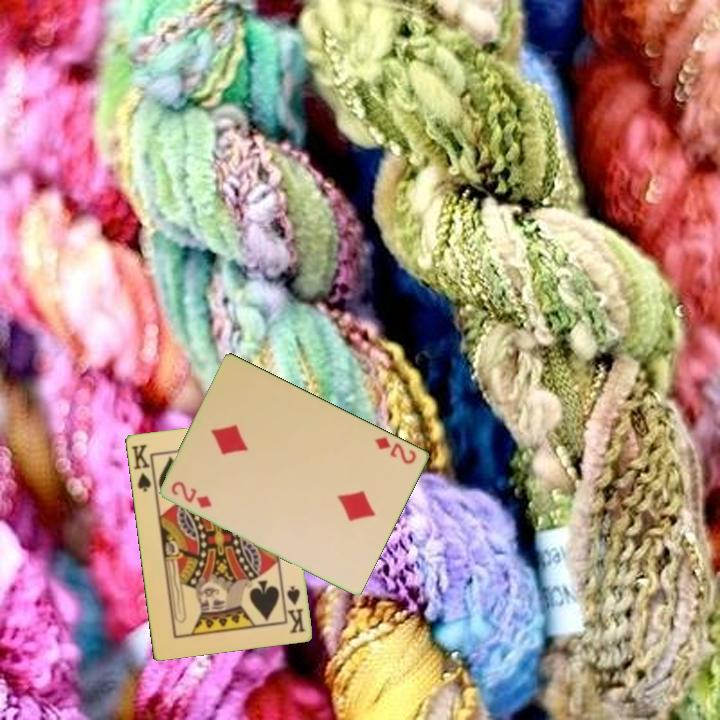2d: (371, 433, 420, 467), (168, 478, 215, 511)
Ks: (128, 440, 158, 494), (283, 582, 308, 636)
